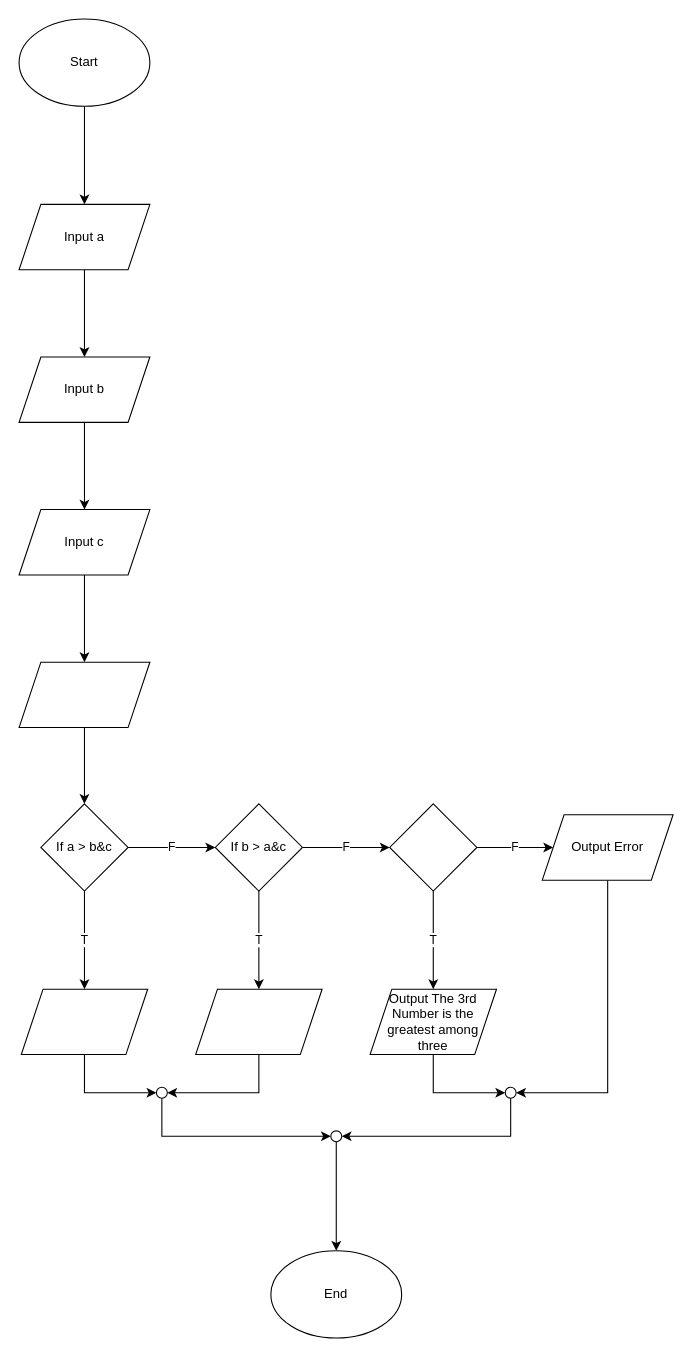
The diagram is 692 pixels wide and 1357 high, and some of its shapes have lost their labels. Each missing label, with the box of its shape:
If c > a&b: (389, 803, 477, 891)
Output a b c: (18, 661, 150, 728)
Output The 1st Number is the greatest among three: (20, 988, 148, 1055)
Output The 2nd Number is the greatest among three: (195, 988, 322, 1055)
